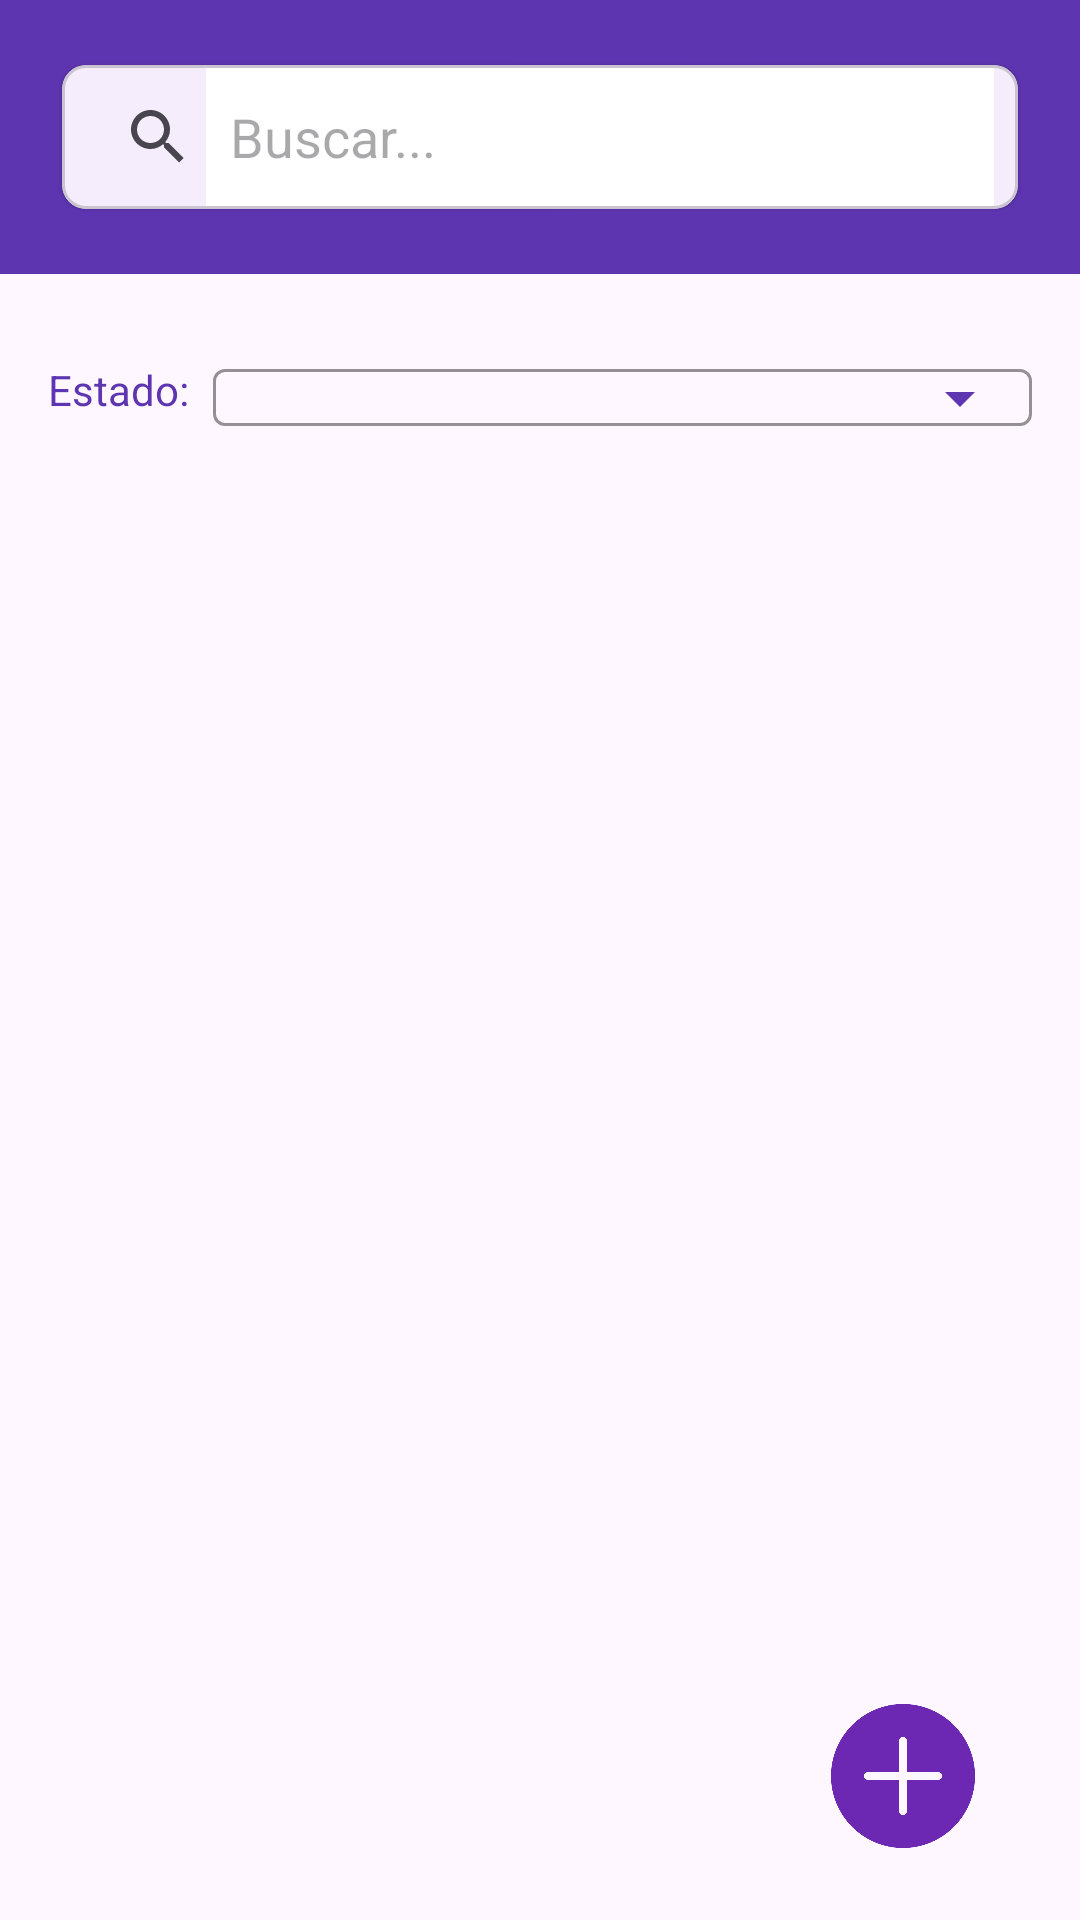

Locate icon controls on the screen. Image size 1080w x 1920h, boxes as box=[x1, y1, x2, y2].
Agregar item: box=[831, 1704, 975, 1848]
